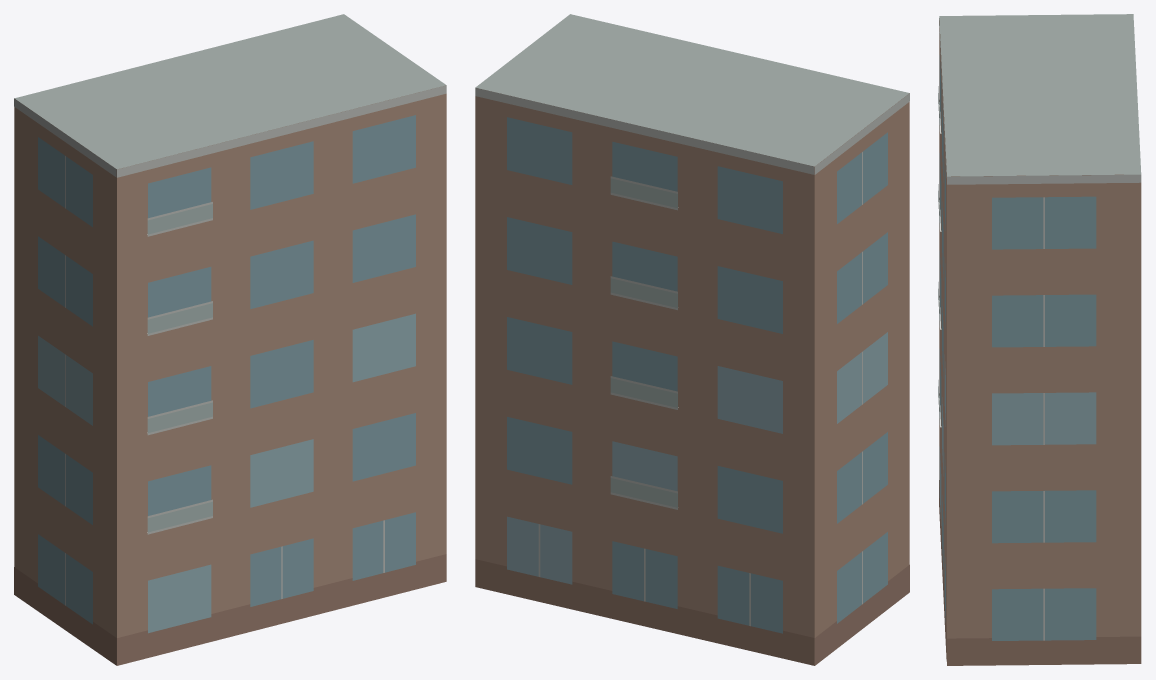
Rendered from survey-upis-32973459.glb.
The picture shows the model from 3 angles, left to right: view 1: azimuth 30°, elevation 25°; view 2: azimuth 150°, elevation 25°; view 3: azimuth 270°, elevation 25°; orthographic projection. The views are drawn at different scales.
Parts seen in each view (by area): view 1: survey-upis-32973459.tmp; view 2: survey-upis-32973459.tmp; view 3: survey-upis-32973459.tmp.
Part boxes in pixels (x1=…): survey-upis-32973459.tmp: x1=14, y1=14, x2=446, y2=665; survey-upis-32973459.tmp: x1=475, y1=14, x2=909, y2=665; survey-upis-32973459.tmp: x1=938, y1=14, x2=1141, y2=665.
Size of the model in its own units: 10.26 by 14.4 by 5.41.
